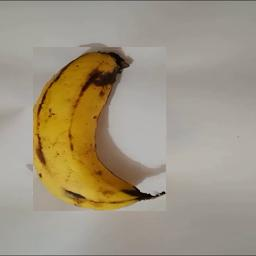Banana Semifresh: (33, 47, 166, 211)
